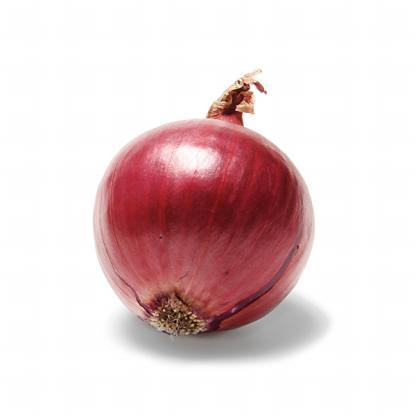onion: (82, 60, 325, 348)
